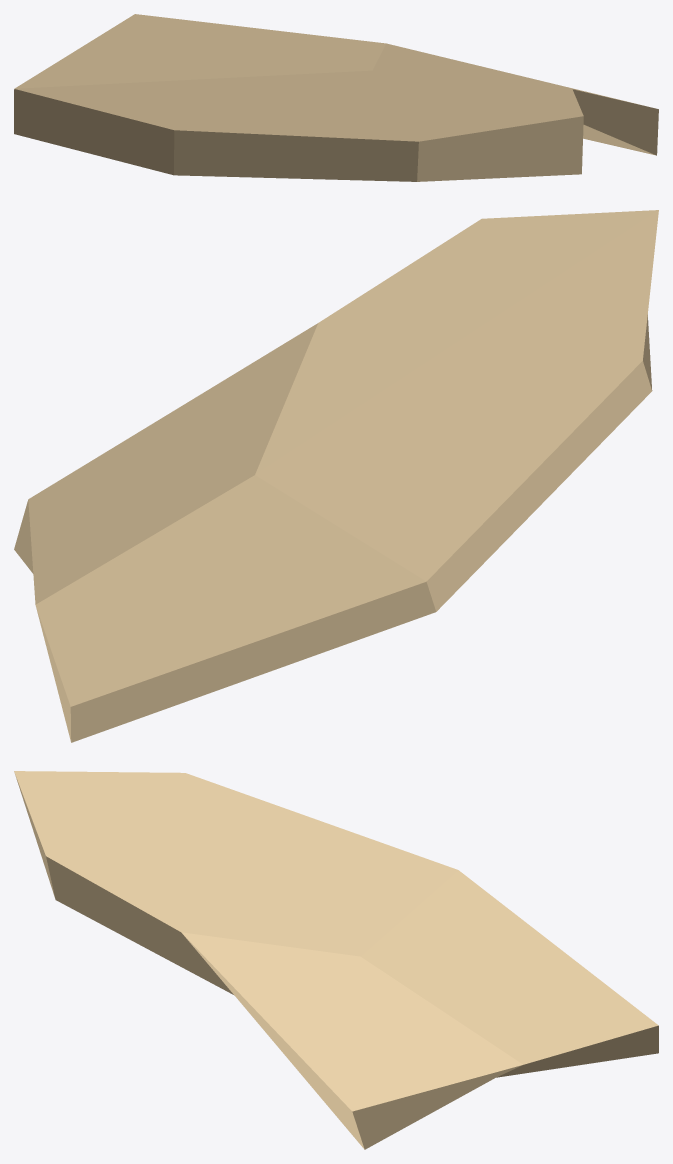
File: toinen terrain 1.fbx
3 renders of one model, top to bottom at view 1: azimuth 30°, elevation 25°; view 2: azimuth 150°, elevation 25°; view 3: azimuth 270°, elevation 25°, orthographic. The views are drawn at different scales.
Parts seen in each view (by area): view 1: Cube.005; view 2: Cube.005; view 3: Cube.005.
Part boxes in pixels (box(x1,y1,x2,y2)): Cube.005: box(14, 14, 658, 181); Cube.005: box(14, 210, 658, 742); Cube.005: box(14, 771, 658, 1149).
Bounding box in the file's own units: 1380 × 707 × 1896.
